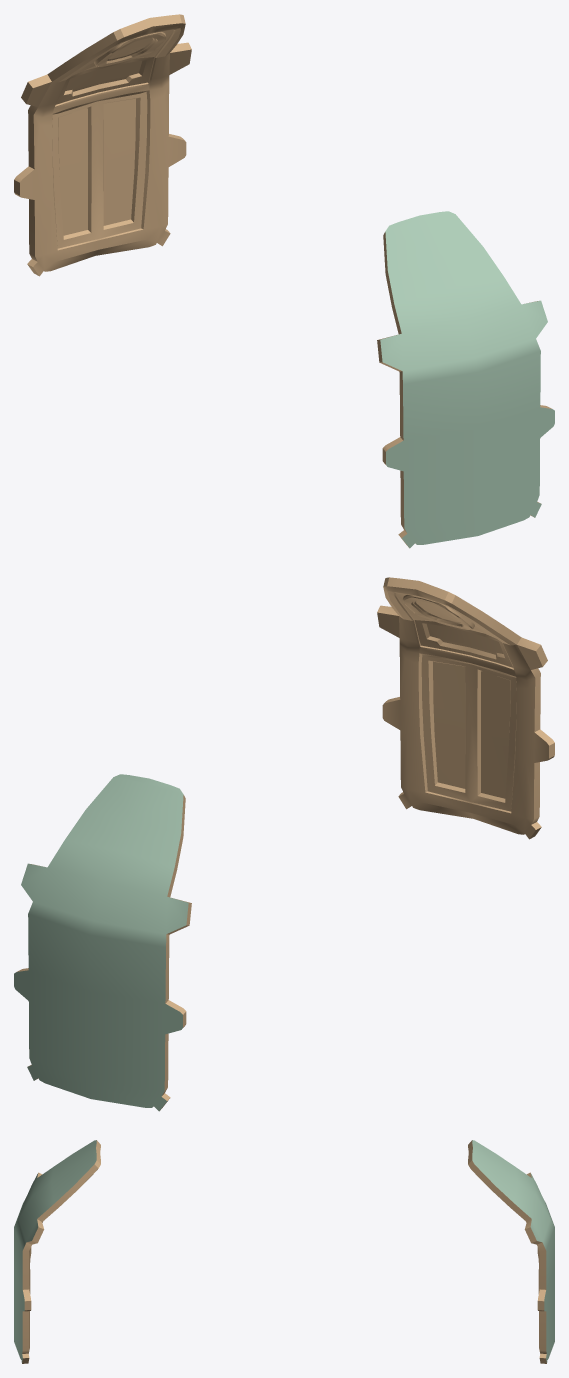
File: REENTRY_CRAFT_DOORS_NEWpivots.fbx
3 views of the same model, one above another, from view 1: azimuth 30°, elevation 25°; view 2: azimuth 150°, elevation 25°; view 3: azimuth 270°, elevation 25° (orthographic). The views are drawn at different scales.
Parts seen in each view (by area): view 1: POD_DOOR_02_GEO, POD_DOOR_01_GEO; view 2: POD_DOOR_01_GEO, POD_DOOR_02_GEO; view 3: POD_DOOR_01_GEO, POD_DOOR_02_GEO.
Boxes of the visible parts, x1,y1,x2,y2 form: POD_DOOR_02_GEO: (377, 211, 554, 548); POD_DOOR_01_GEO: (14, 14, 191, 276); POD_DOOR_01_GEO: (14, 774, 191, 1111); POD_DOOR_02_GEO: (377, 577, 554, 839); POD_DOOR_01_GEO: (468, 1140, 554, 1363); POD_DOOR_02_GEO: (14, 1140, 100, 1363).
Size of the model in its own units: 0.0146 by 0.023 by 0.058.
